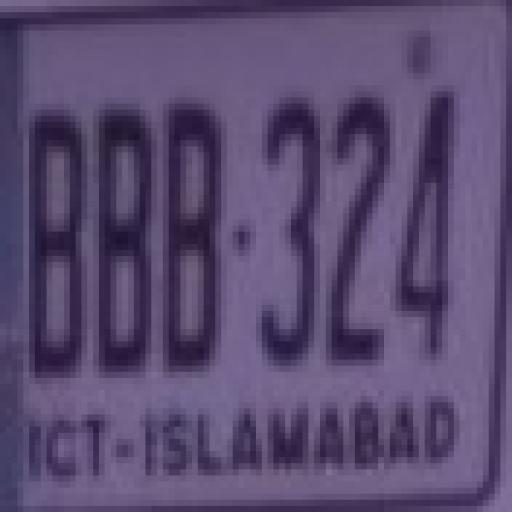2: (337, 100, 386, 377)
3: (256, 93, 321, 370)
4: (396, 80, 454, 373)
B: (156, 96, 219, 376), (96, 104, 148, 385), (32, 109, 82, 388)
